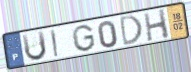0: (96, 18, 120, 50)
D: (119, 13, 143, 48)
G: (71, 23, 97, 53)
H: (142, 8, 171, 43)
I: (50, 28, 60, 59)
U: (20, 29, 48, 63)
